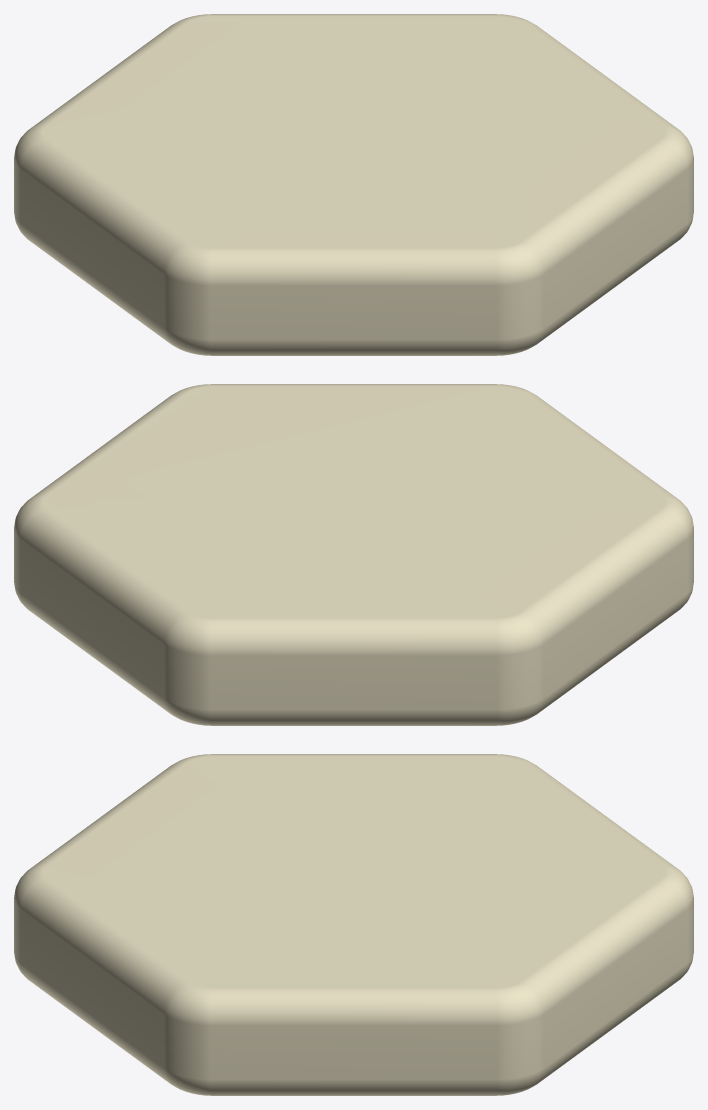
Rendered from SM_Hexagon.fbx.
3 views of the same model, one above another, from view 1: azimuth 30°, elevation 25°; view 2: azimuth 150°, elevation 25°; view 3: azimuth 270°, elevation 25° (orthographic).
Visible parts, largest first — view 1: SM_Hexagon; view 2: SM_Hexagon; view 3: SM_Hexagon.
Boxes of the visible parts, x1,y1,x2,y2 form: SM_Hexagon: (14,14,693,355); SM_Hexagon: (14,384,693,725); SM_Hexagon: (14,754,693,1095).
Size of the model in its own units: 113 by 21.85 by 128.
